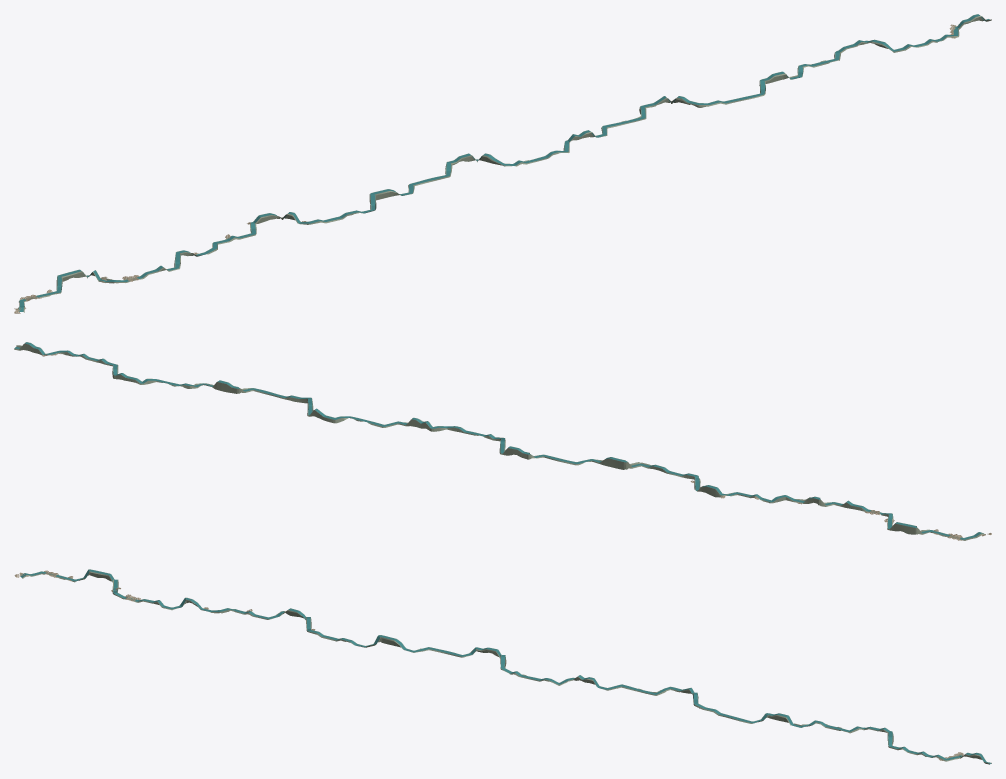
The model's file is river.glb.
The picture shows the model from 3 angles, top to bottom: view 1: azimuth 30°, elevation 25°; view 2: azimuth 150°, elevation 25°; view 3: azimuth 330°, elevation 25°; orthographic projection. The views are drawn at different scales.
Size of the model in its own units: 357 by 2.94 by 39.92.
